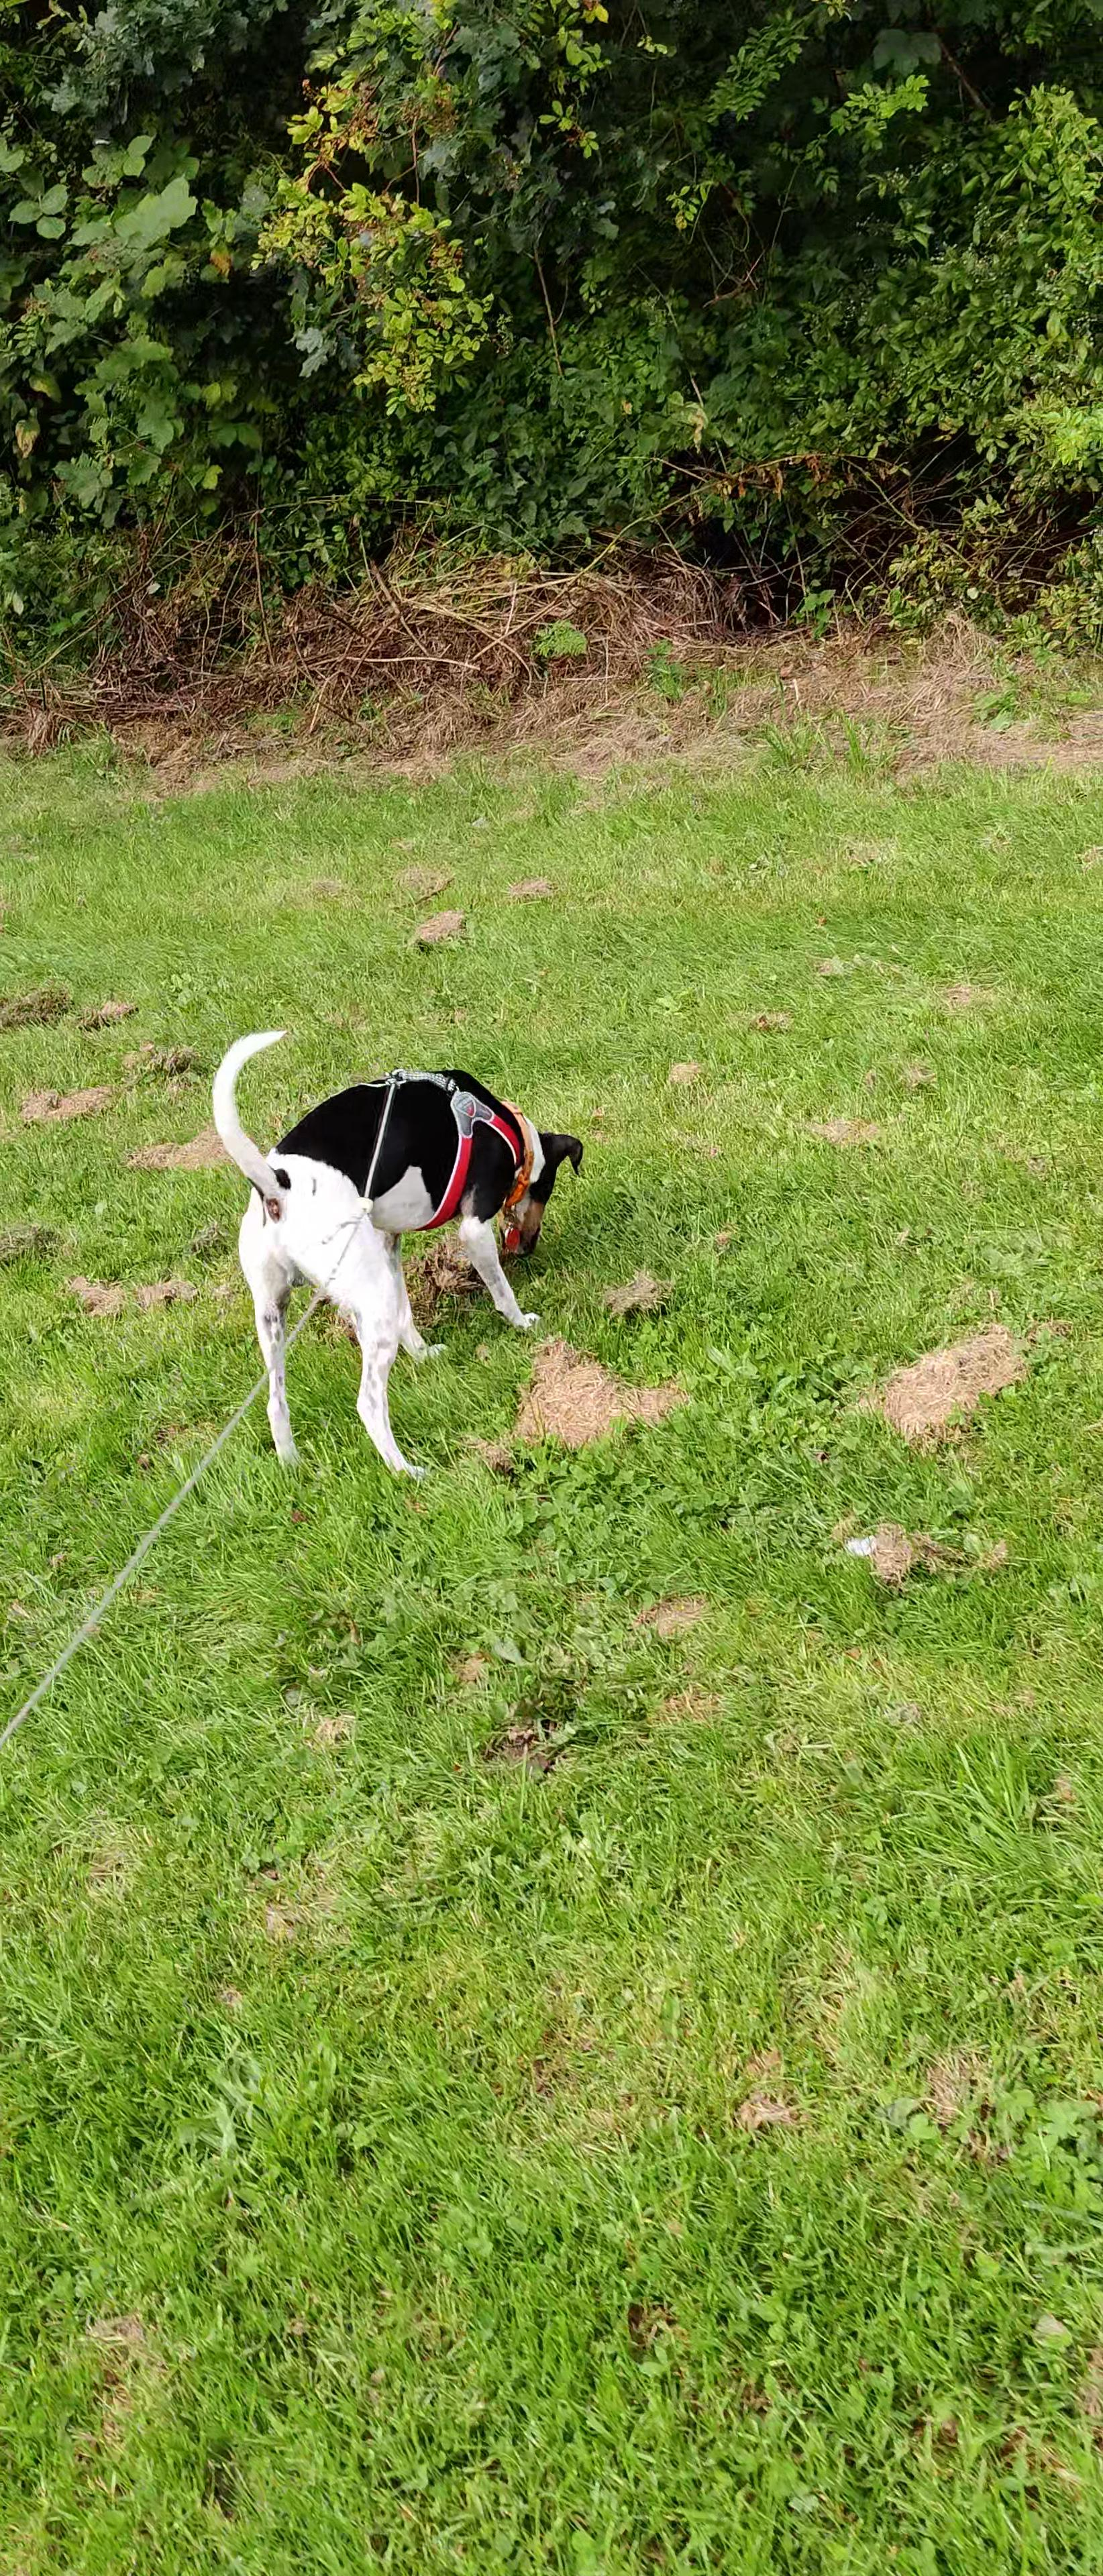Dog: (196, 1000, 598, 1503)
